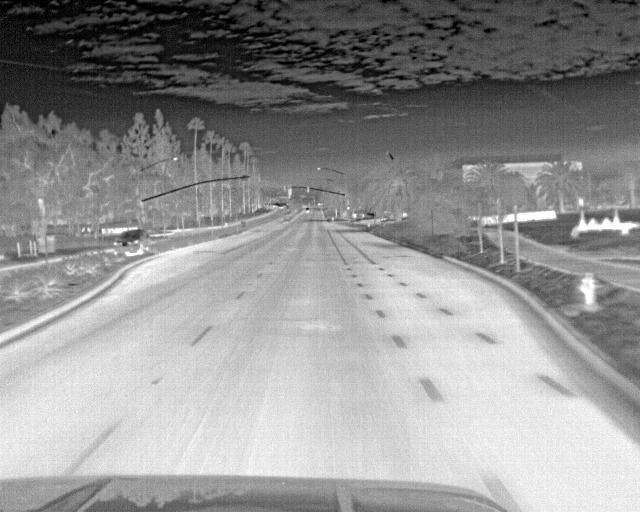car: (114, 230, 145, 252)
